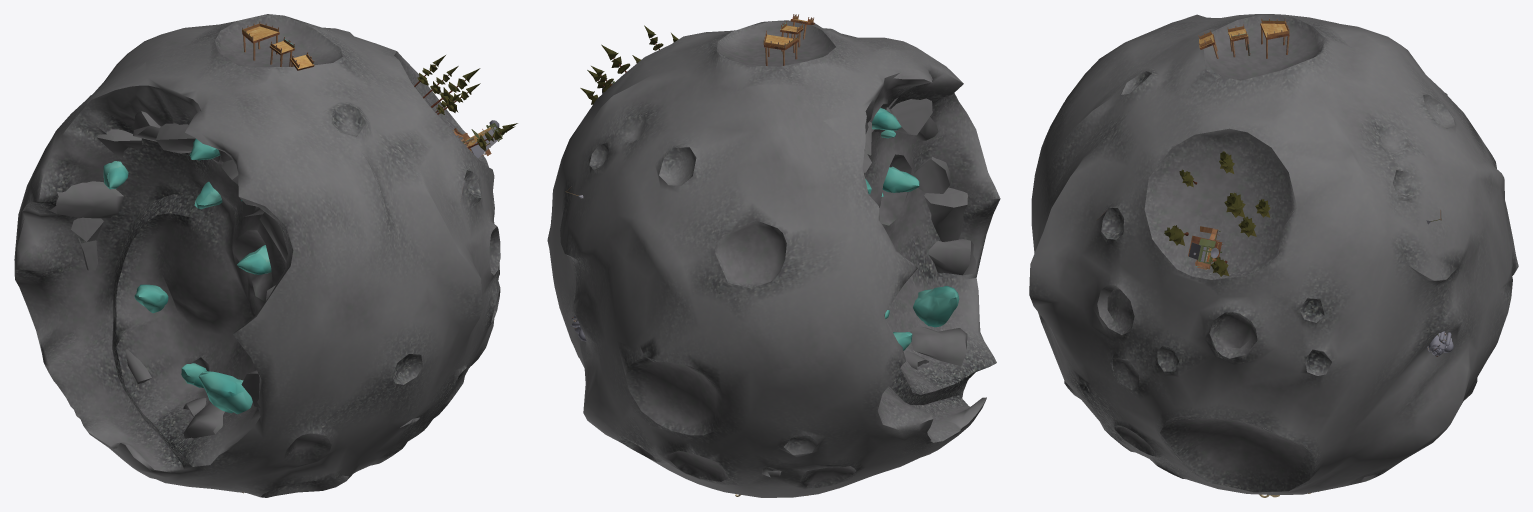
Rendered from TimberMoon.glb.
The picture shows the model from 3 angles, left to right: view 1: azimuth 30°, elevation 25°; view 2: azimuth 150°, elevation 25°; view 3: azimuth 270°, elevation 25°; orthographic projection.
Visible parts, largest first — view 1: TimberMoon; view 2: TimberMoon; view 3: TimberMoon.
Boxes of the visible parts, left/top/right/bottom form: TimberMoon: left=14, top=14, right=517, bottom=497; TimberMoon: left=547, top=14, right=1000, bottom=497; TimberMoon: left=1029, top=14, right=1518, bottom=497.
Bounding box in the file's own units: 1.97 × 2.04 × 1.99.
1 material, 1 textured.
